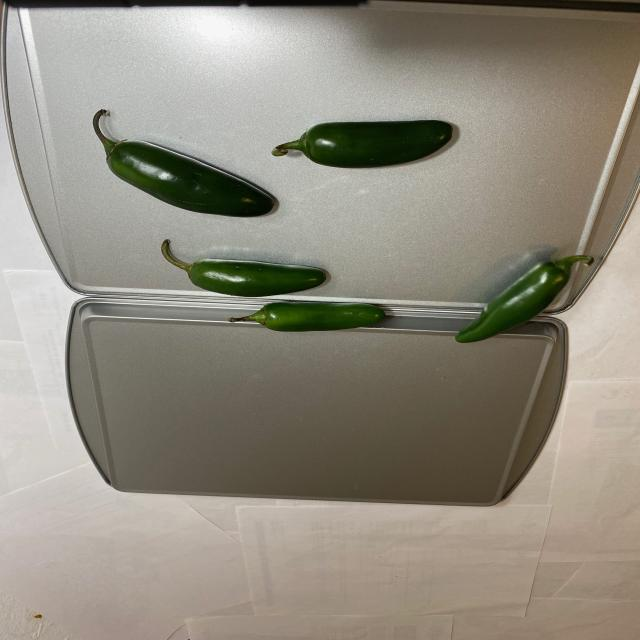chilli: (88, 103, 584, 339)
